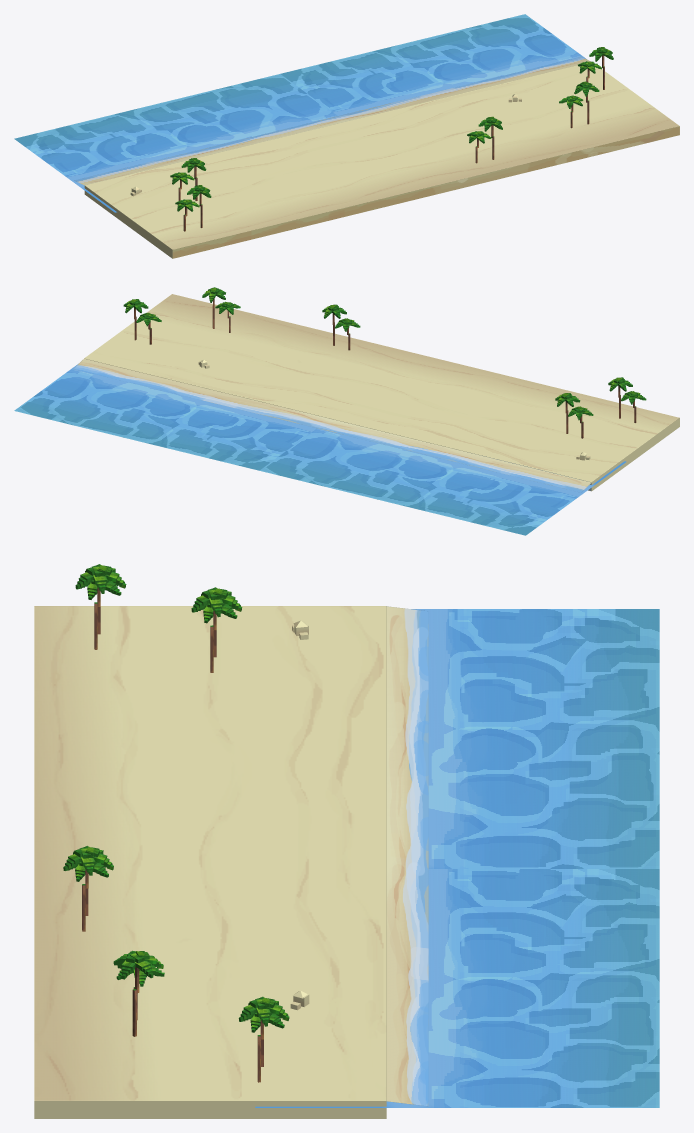
Rendered from map.obj.
3 views of the same model, one above another, from view 1: azimuth 30°, elevation 25°; view 2: azimuth 150°, elevation 25°; view 3: azimuth 270°, elevation 25° (orthographic). The views are drawn at different scales.
Parts seen in each view (by area): view 1: mesh, plane, palmera; view 2: mesh, plane, palmera; view 3: mesh, plane, palmera.
Part boxes in pixels (x1,y1,x2,y2): mesh: (84,65,679,258); plane: (14,14,590,212); palmera: (170,47,613,231); mesh: (84,294,679,491); plane: (14,358,626,535); palmera: (123,287,646,438); mesh: (34,606,386,1118); plane: (255,606,659,1107); palmera: (63,564,289,1082).
Size of the model in its own units: 48.38 by 4.51 by 25.62.
5 materials, 5 textured.
